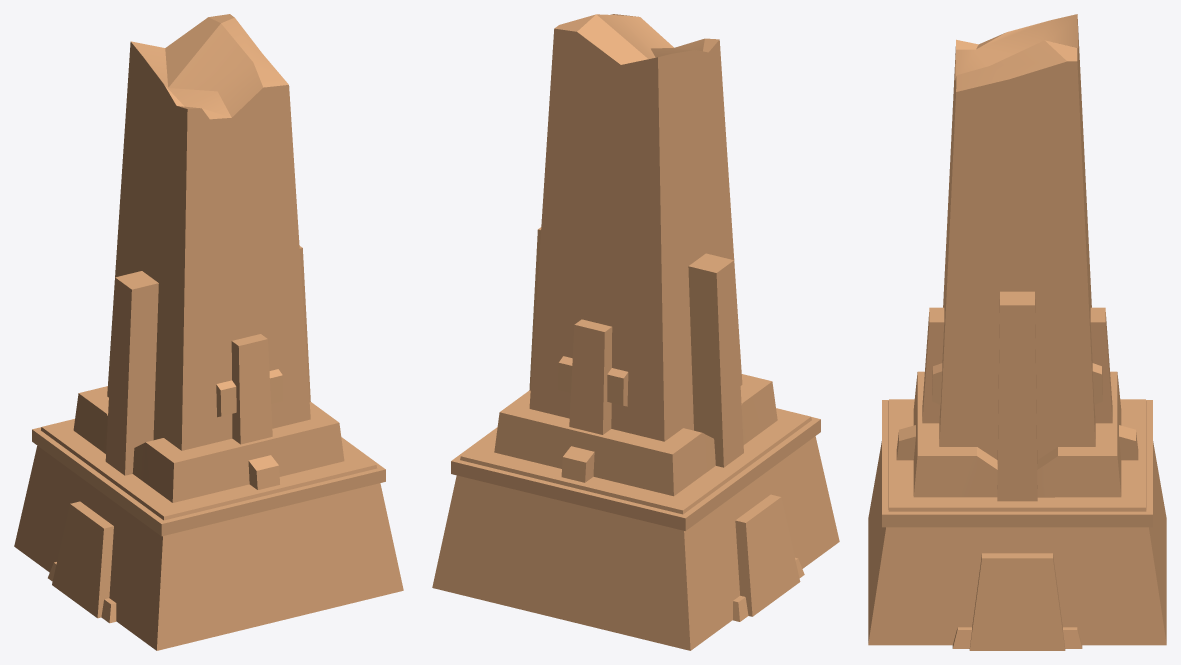
File: SM_PillarCasséB_01.fbx
3 renders of one model, left to right at view 1: azimuth 30°, elevation 25°; view 2: azimuth 150°, elevation 25°; view 3: azimuth 270°, elevation 25°, orthographic. The views are drawn at different scales.
Visible parts, largest first — view 1: Cube.055; view 2: Cube.055; view 3: Cube.055.
Part boxes in pixels (x1,y1,x2,y2): Cube.055: (14,14,403,650); Cube.055: (432,14,839,650); Cube.055: (868,14,1166,650).
Size of the model in its own units: 0.4343 by 0.8188 by 0.3994.
